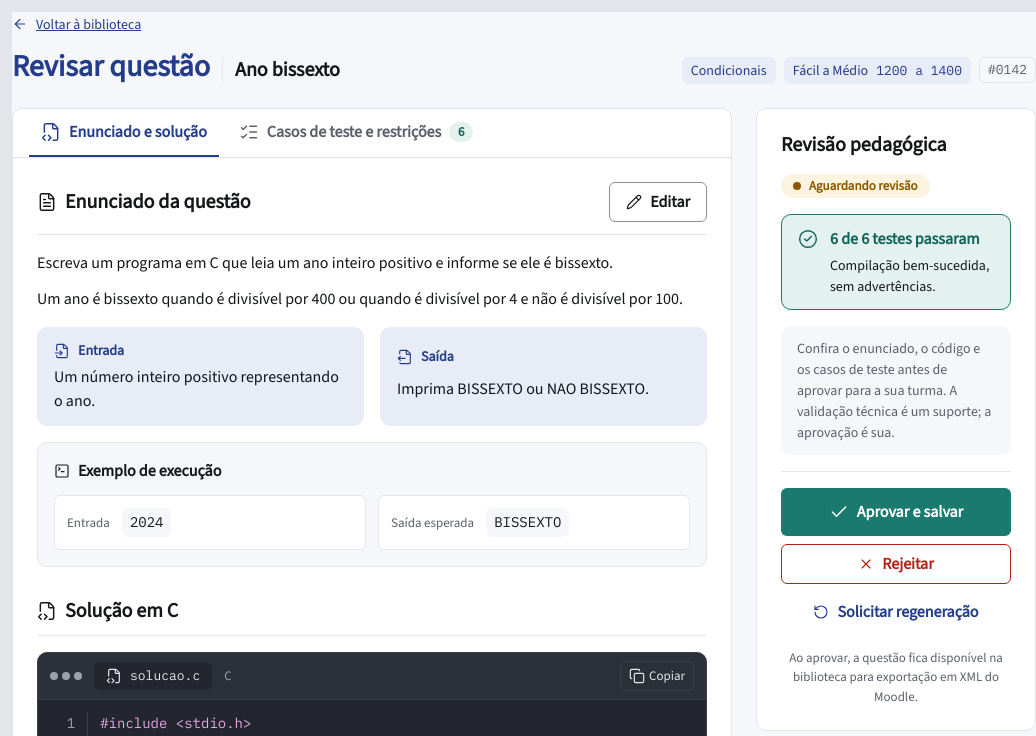
Test: ReviewView › tem só duas abas e junta casos de teste e restrições
Step 1. Click the tab "Casos de teste e restrições 6" → (356, 133), box top-left (227, 109), bottom-right (485, 157)
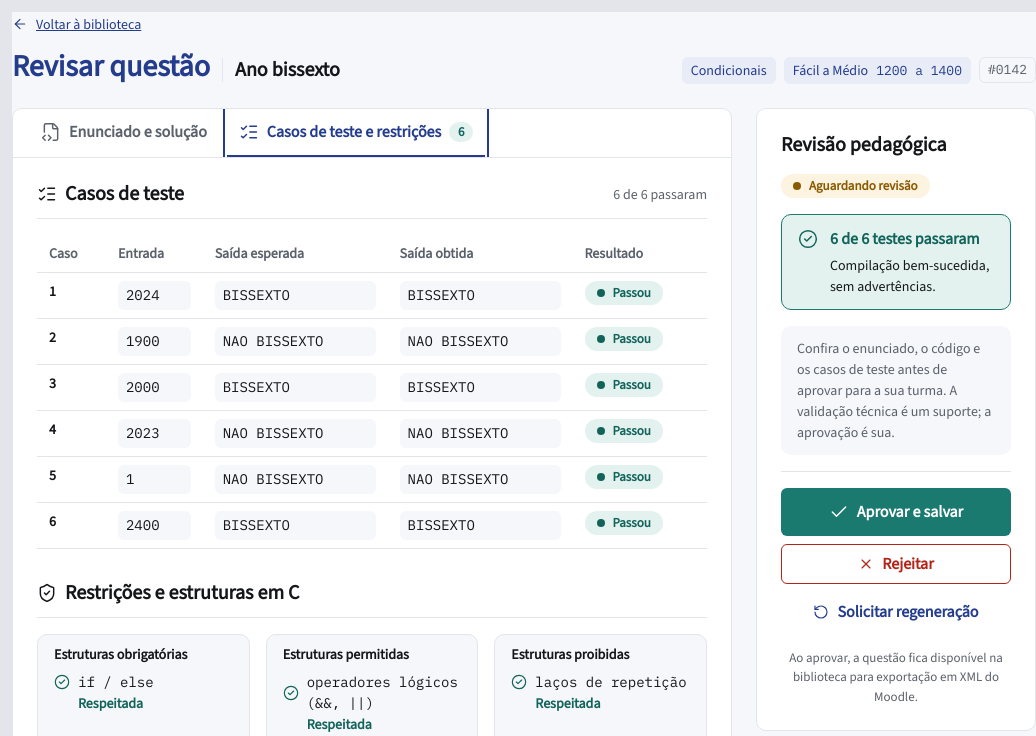
Now the number of rows is 7
Now the text "6 de 6 passaram" is shown, box top-left (613, 184), bottom-right (707, 204)
Now the heading "Restrições e estruturas em C" is shown, box top-left (37, 581), bottom-right (707, 618)
